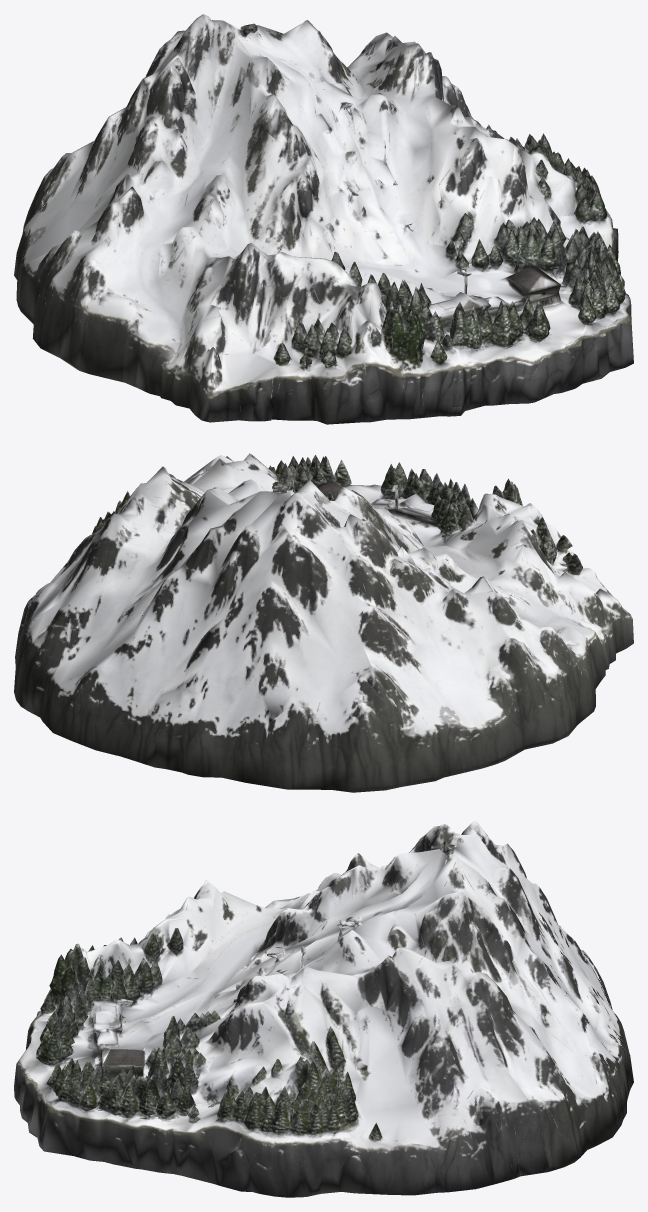
The model's file is city_erzurum_palandoken.glb.
The picture shows the model from 3 angles, top to bottom: view 1: azimuth 30°, elevation 25°; view 2: azimuth 150°, elevation 25°; view 3: azimuth 270°, elevation 25°; orthographic projection. The views are drawn at different scales.
Parts seen in each view (by area): view 1: Mesh1.0; view 2: Mesh1.0; view 3: Mesh1.0.
Boxes of the visible parts, x1,y1,x2,y2 form: Mesh1.0: [14, 14, 633, 424]; Mesh1.0: [14, 453, 633, 792]; Mesh1.0: [14, 821, 633, 1197].
Bounding box in the file's own units: 74.21 × 32 × 77.65.
1 material, 1 textured.
